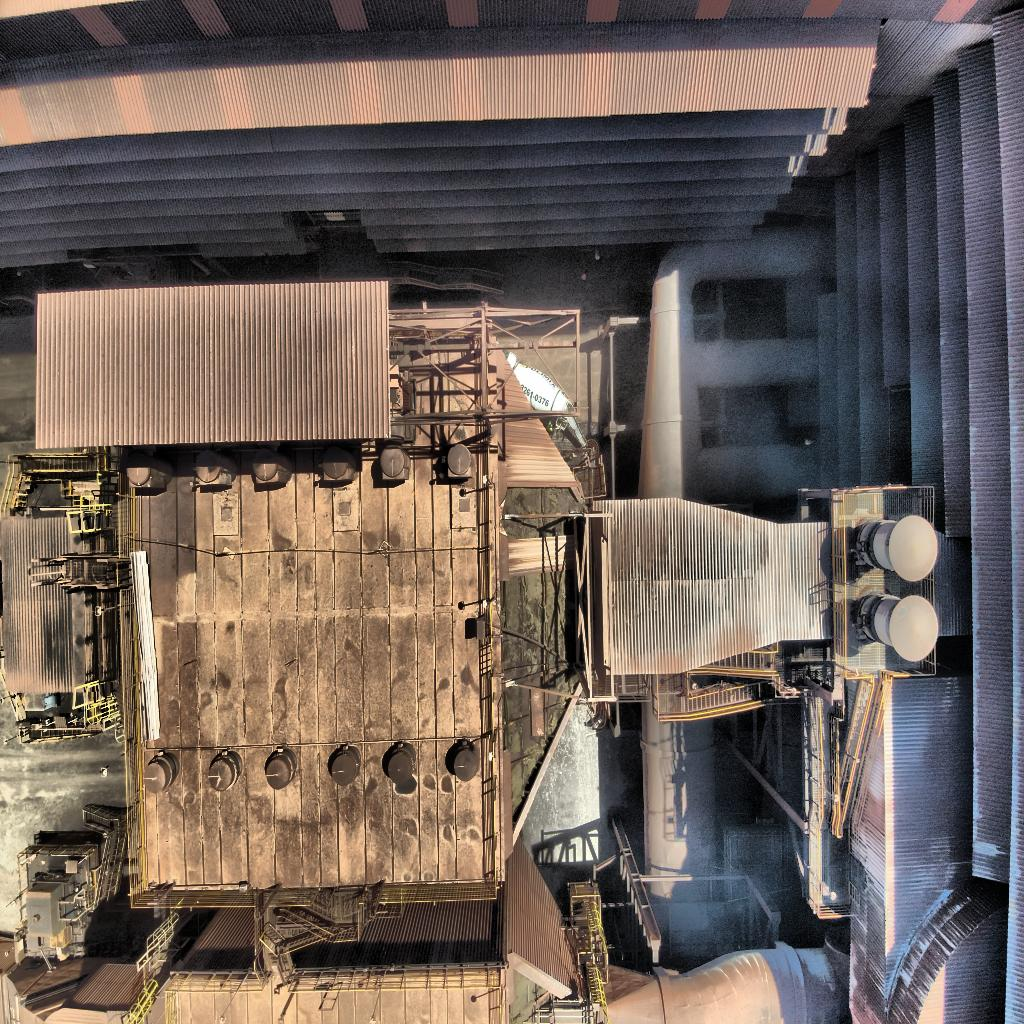Failures: (500, 480, 584, 837), (511, 962, 562, 1024)
